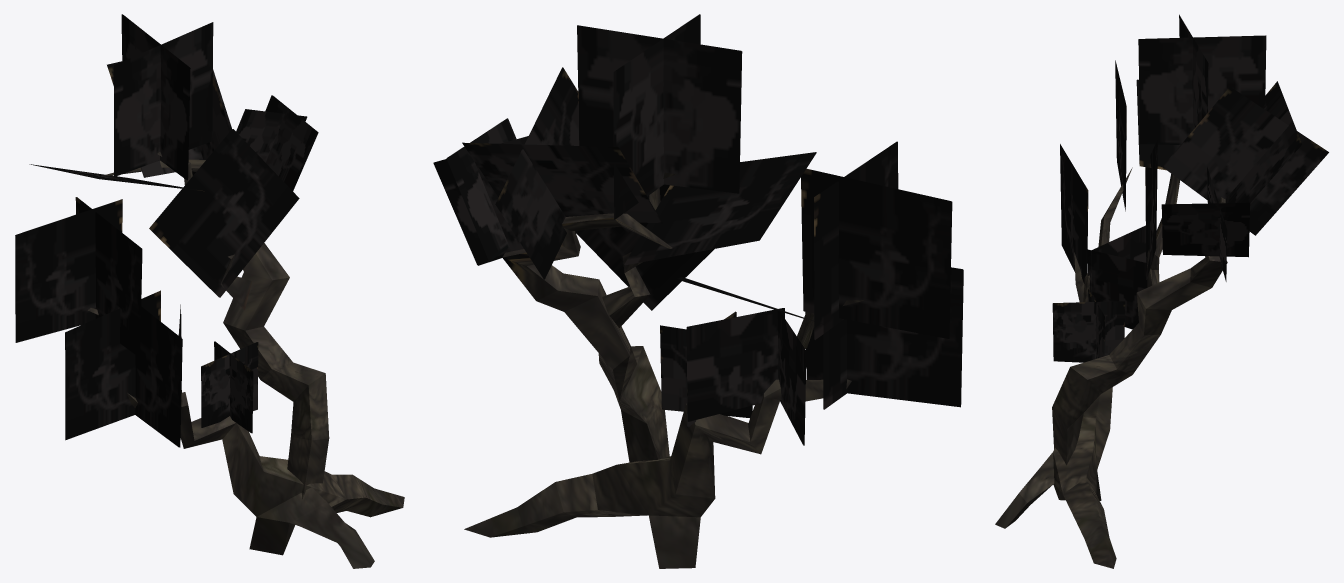
File: huoguankushu03.FBX
3 views of the same model, side by side, from view 1: azimuth 30°, elevation 25°; view 2: azimuth 150°, elevation 25°; view 3: azimuth 270°, elevation 25° (orthographic). The views are drawn at different scales.
Visible parts, largest first — view 1: huoguankushu03; view 2: huoguankushu03; view 3: huoguankushu03.
Part boxes in pixels (x1,y1,x2,y2): huoguankushu03: (15, 14, 404, 568); huoguankushu03: (433, 14, 963, 568); huoguankushu03: (995, 14, 1328, 568).
Bounding box in the file's own units: 768 × 616 × 890.
